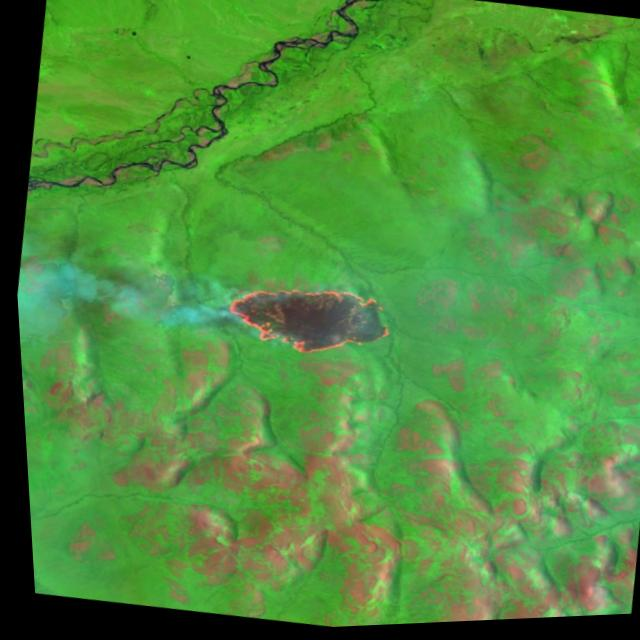fire: (186, 266, 401, 381)
